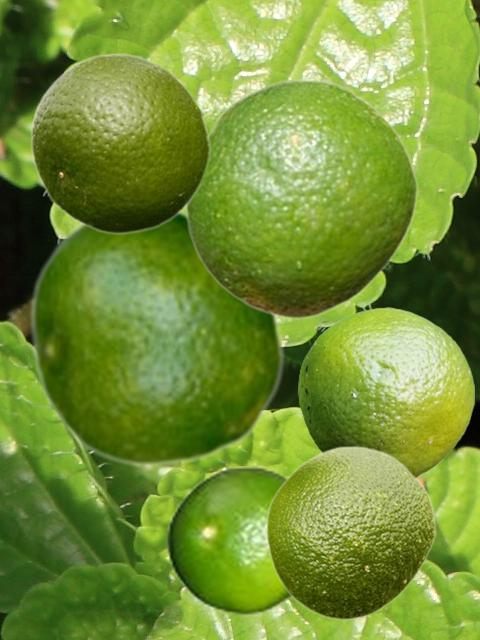calamansi: (28, 212, 285, 467), (184, 78, 417, 319), (30, 51, 210, 234), (298, 307, 473, 478), (265, 445, 435, 620), (165, 466, 294, 615)
